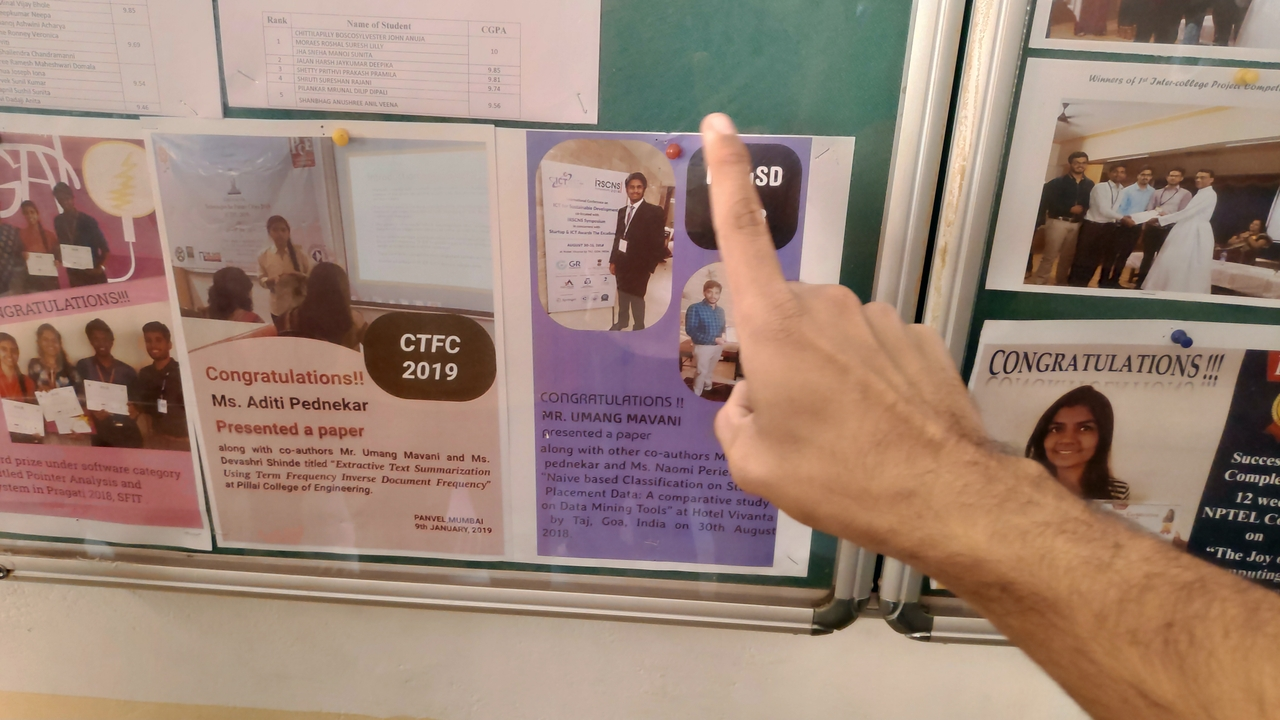fingertip: (696, 110, 748, 160)
